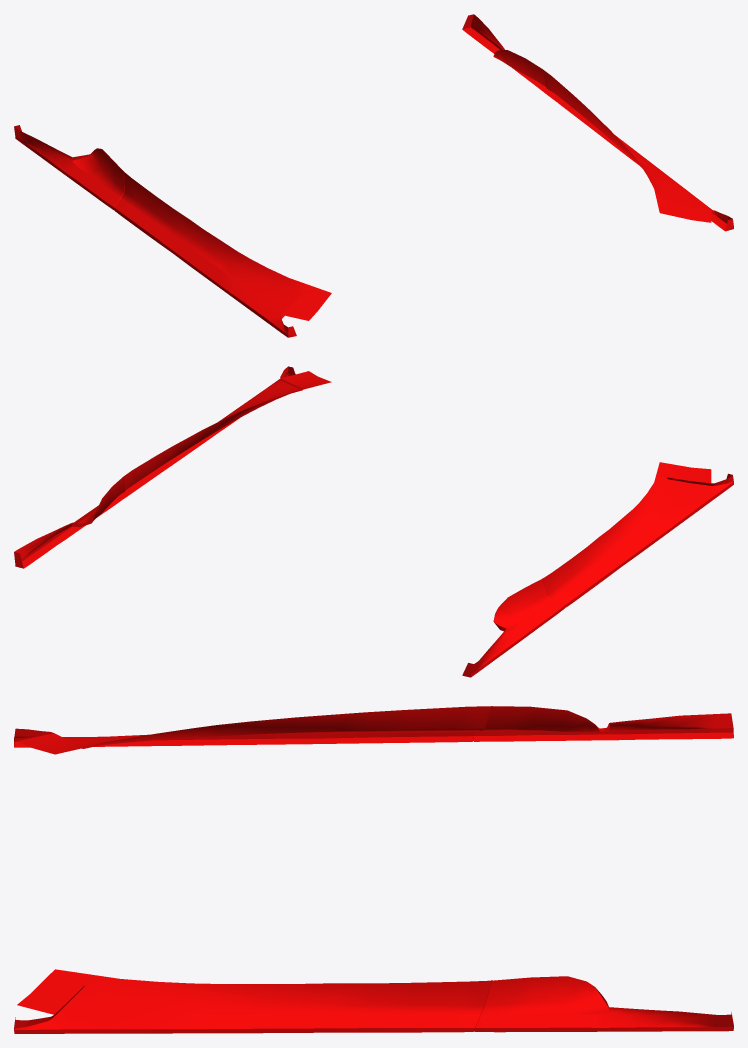
File: FordGT_Skirt01_Trim.fbx
3 renders of one model, top to bottom at view 1: azimuth 30°, elevation 25°; view 2: azimuth 150°, elevation 25°; view 3: azimuth 270°, elevation 25°, orthographic. The views are drawn at different scales.
Parts seen in each view (by area): view 1: FordGT_Skirt01_Trim; view 2: FordGT_Skirt01_Trim; view 3: FordGT_Skirt01_Trim.
Boxes of the visible parts, x1=… form: FordGT_Skirt01_Trim: x1=14, y1=14, x2=733, y2=337; FordGT_Skirt01_Trim: x1=14, y1=366, x2=733, y2=677; FordGT_Skirt01_Trim: x1=14, y1=706, x2=733, y2=1033.
Size of the model in its own units: 186 by 13.26 by 188.
